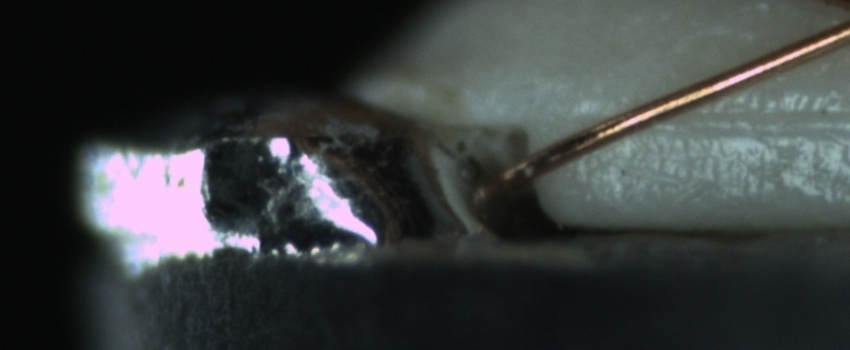DL: (627, 86, 849, 156)
